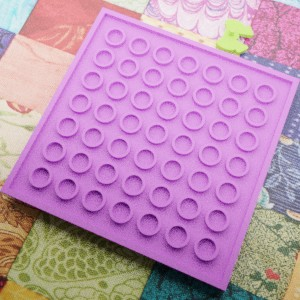lego: (0, 7, 300, 290), (215, 18, 253, 54)
